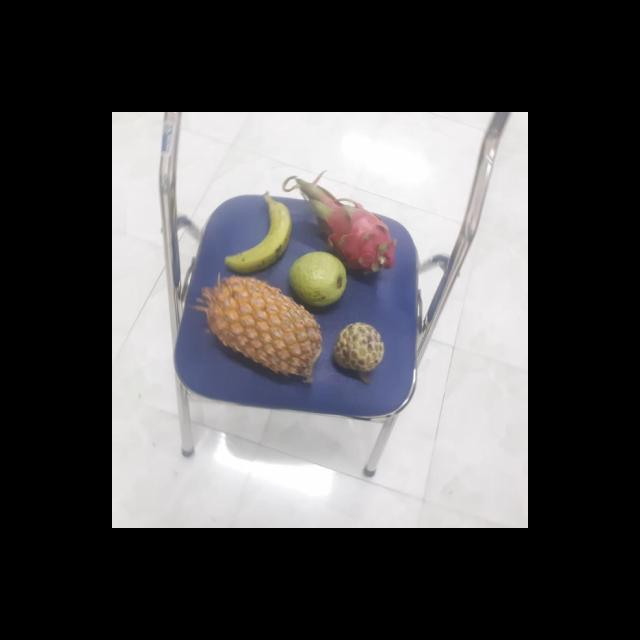Sakya fruit: (328, 322, 382, 376)
banana: (224, 198, 292, 274)
guava: (286, 251, 348, 308)
pineapple: (202, 276, 322, 382)
pitaya: (304, 196, 391, 274)
